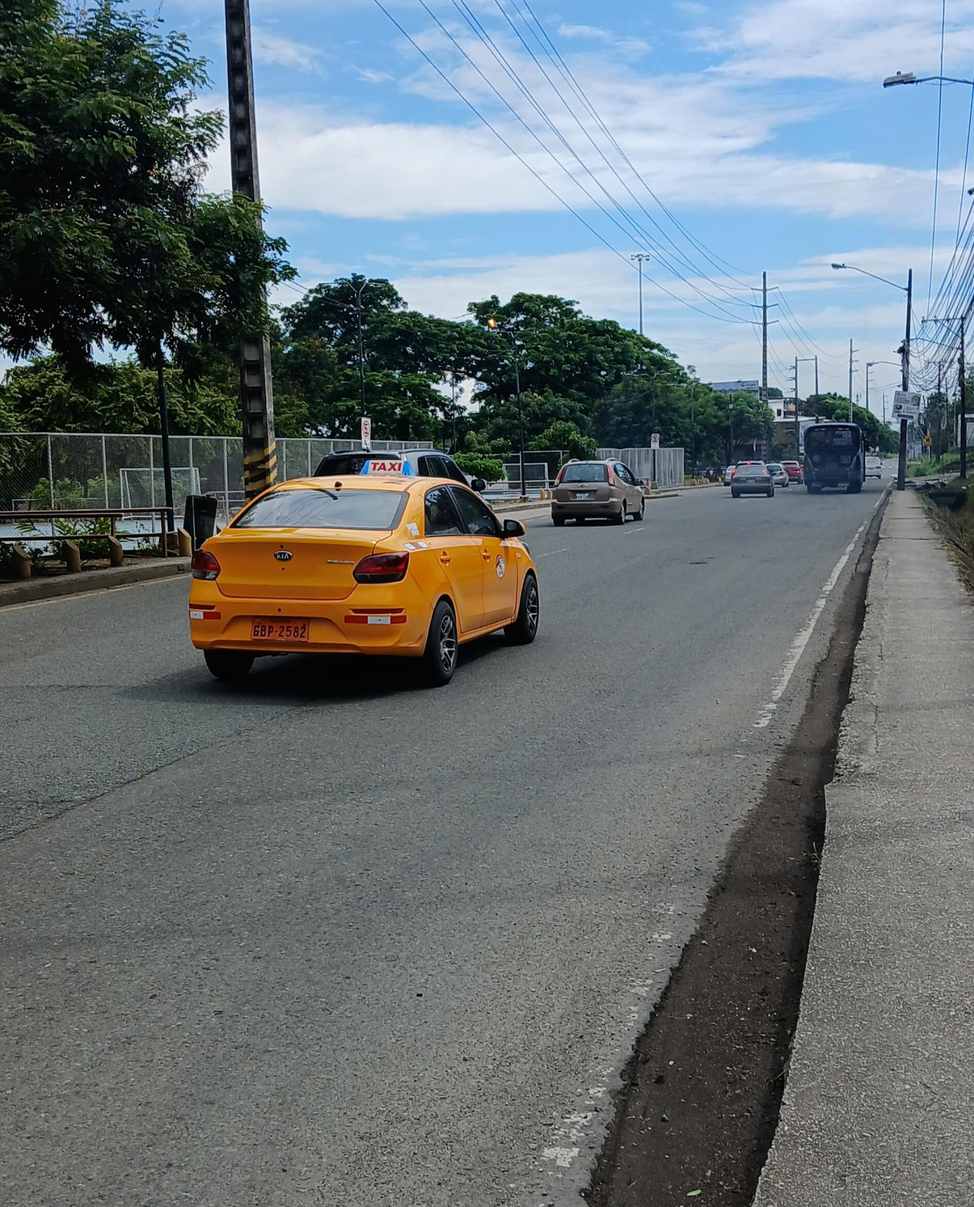license_plate: (249, 620, 308, 640), (839, 455, 852, 463), (575, 493, 591, 499)
